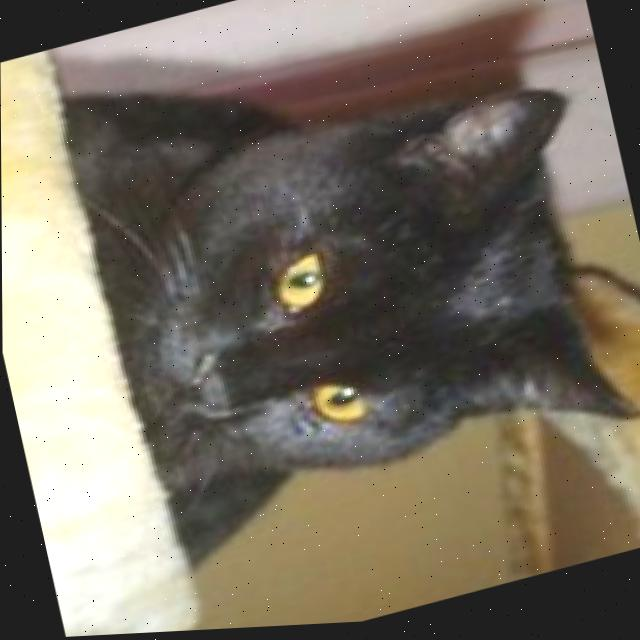Bombay: (48, 0, 640, 592)
